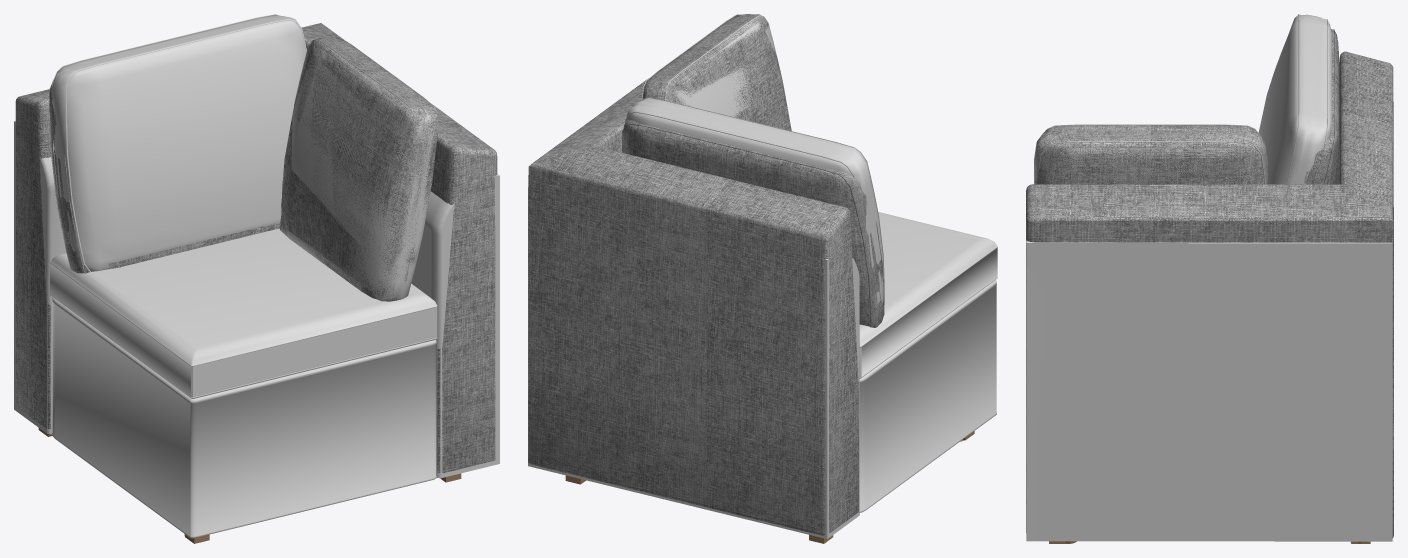
Rendered from cornerL.gltf.
3 views of the same model, side by side, from view 1: azimuth 30°, elevation 25°; view 2: azimuth 150°, elevation 25°; view 3: azimuth 270°, elevation 25° (orthographic). The views are drawn at different scales.
Parts seen in each view (by area): view 1: pillow (×2), Bottom, SingleSeat, Back2, pillow.1 (×2), back.1, Sweep; view 2: Back2, Bottom, pillow (×2), pillow.1 (×2), SingleSeat, back.1, Sweep (×2); view 3: back.1, Back2, pillow (×2), pillow.1 (×2), Sweep.
Boxes of the visible parts, bbox=[...] form: pillow (×2): bbox=[52, 14, 438, 301]; Bottom: bbox=[52, 297, 436, 538]; SingleSeat: bbox=[50, 228, 437, 398]; Back2: bbox=[15, 23, 497, 473]; pillow.1 (×2): bbox=[49, 43, 438, 301]; back.1: bbox=[14, 121, 499, 478]; Sweep: bbox=[52, 14, 306, 272]; Back2: bbox=[528, 78, 858, 535]; Bottom: bbox=[859, 280, 996, 512]; pillow (×2): bbox=[626, 14, 883, 303]; pillow.1 (×2): bbox=[623, 20, 883, 327]; SingleSeat: bbox=[859, 212, 997, 378]; back.1: bbox=[528, 187, 859, 539]; Sweep (×2): bbox=[622, 97, 884, 327]; back.1: bbox=[1026, 240, 1392, 541]; Back2: bbox=[1026, 51, 1393, 537]; pillow (×2): bbox=[1034, 14, 1331, 184]; pillow.1 (×2): bbox=[1034, 29, 1338, 184]; Sweep: bbox=[1037, 124, 1265, 183].
Bounding box in the file's own units: 0.7649 × 0.9082 × 0.7611.
Materials: 4 (1 with a texture image).
